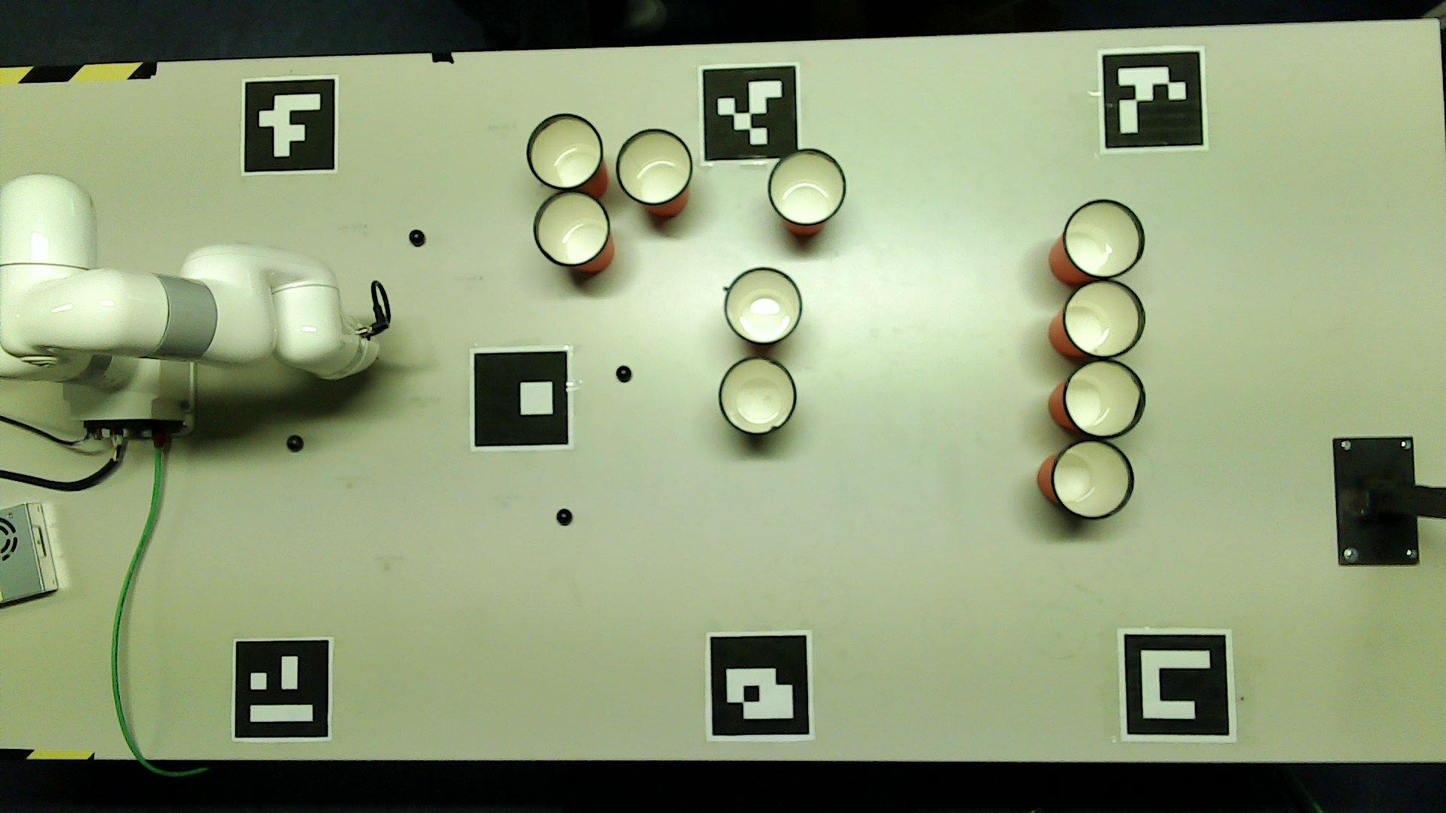ball: (557, 510, 571, 524), (617, 367, 631, 381), (411, 230, 424, 245), (288, 436, 301, 449)
cup: (1054, 442, 1132, 517), (1066, 361, 1142, 437), (1066, 281, 1142, 357), (1065, 201, 1141, 277), (721, 358, 796, 434), (617, 130, 692, 204), (770, 150, 844, 225), (726, 269, 801, 343), (535, 193, 609, 266), (528, 115, 601, 187)
